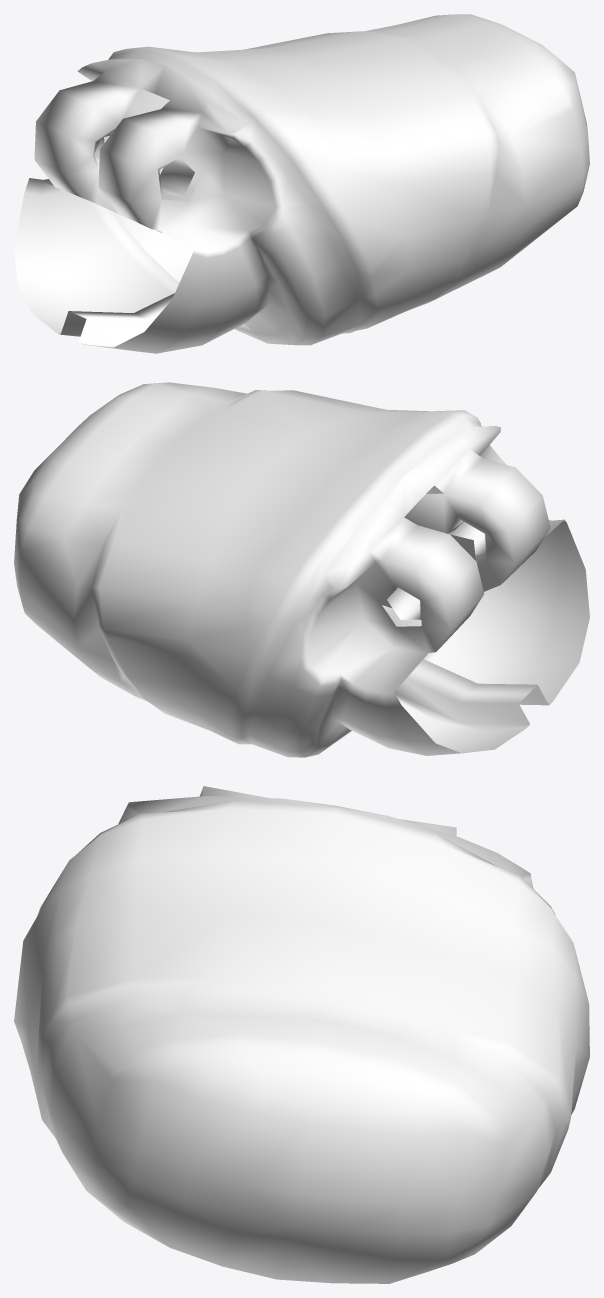
Rendered from LFinger23.dae.
3 views of the same model, one above another, from view 1: azimuth 30°, elevation 25°; view 2: azimuth 150°, elevation 25°; view 3: azimuth 270°, elevation 25° (orthographic). The views are drawn at different scales.
Parts seen in each view (by area): view 1: LFinger23; view 2: LFinger23; view 3: LFinger23.
Part boxes in pixels (<box>): LFinger23: <box>14,14,589,353</box>; LFinger23: <box>14,382,589,757</box>; LFinger23: <box>14,786,589,1283</box>.
Bounding box in the file's own units: 204 × 161 × 112.
1 material, 1 textured.
